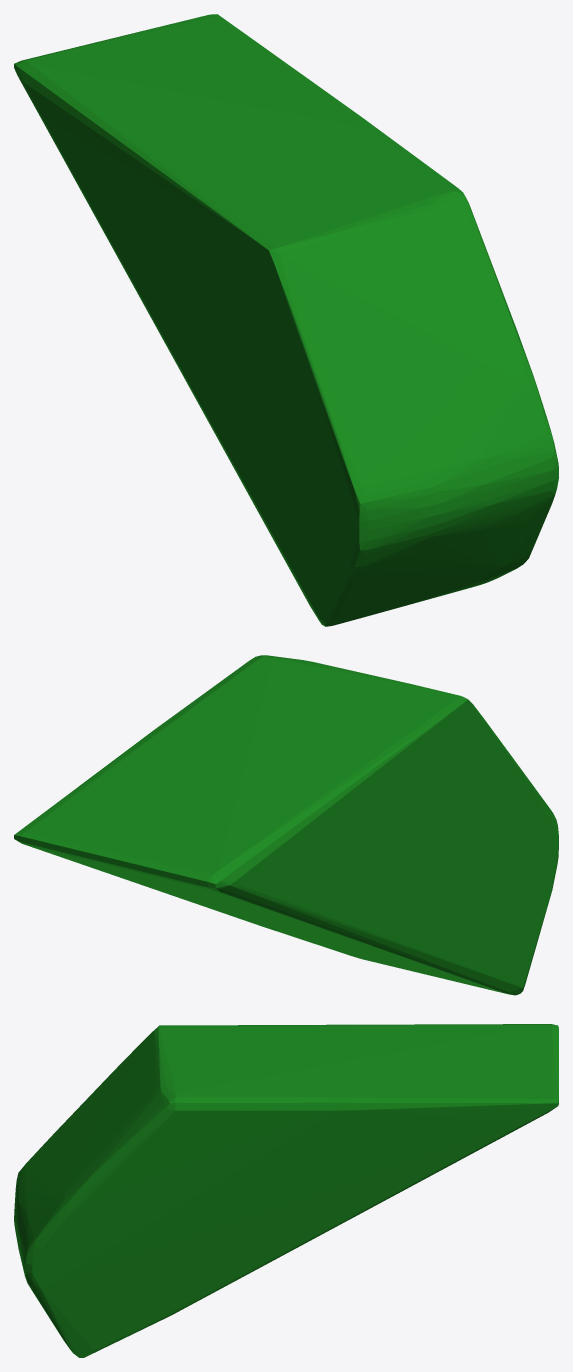
Rendered from left-toe-roll-0_part_8.obj.
The picture shows the model from 3 angles, top to bottom: view 1: azimuth 30°, elevation 25°; view 2: azimuth 150°, elevation 25°; view 3: azimuth 270°, elevation 25°; orthographic projection. The views are drawn at different scales.
Size of the model in its own units: 0.0219 by 0.0335 by 0.062.
